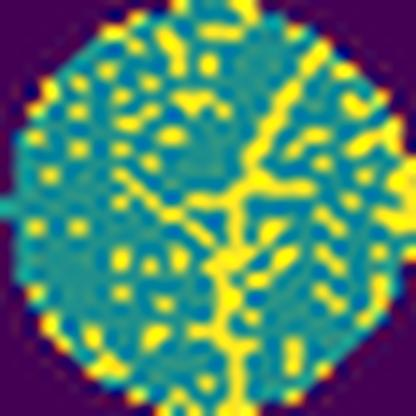Scratch: (176, 39, 334, 416)
